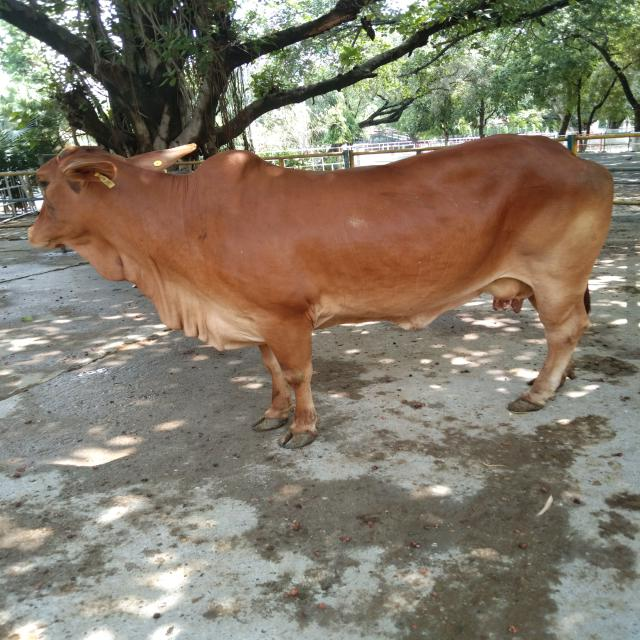1: (181, 148, 292, 175)
Hoof: (278, 428, 318, 449), (251, 415, 288, 431), (507, 397, 544, 413)
